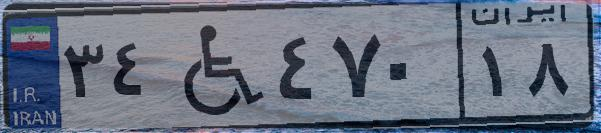0: (385, 28, 445, 110)
1: (475, 38, 525, 113)
3: (57, 26, 110, 100)
4: (270, 28, 330, 110), (110, 28, 158, 98)
7: (330, 28, 385, 110)
8: (525, 38, 570, 115)
ژ (معلولین و جانبازان): (158, 12, 270, 120)
